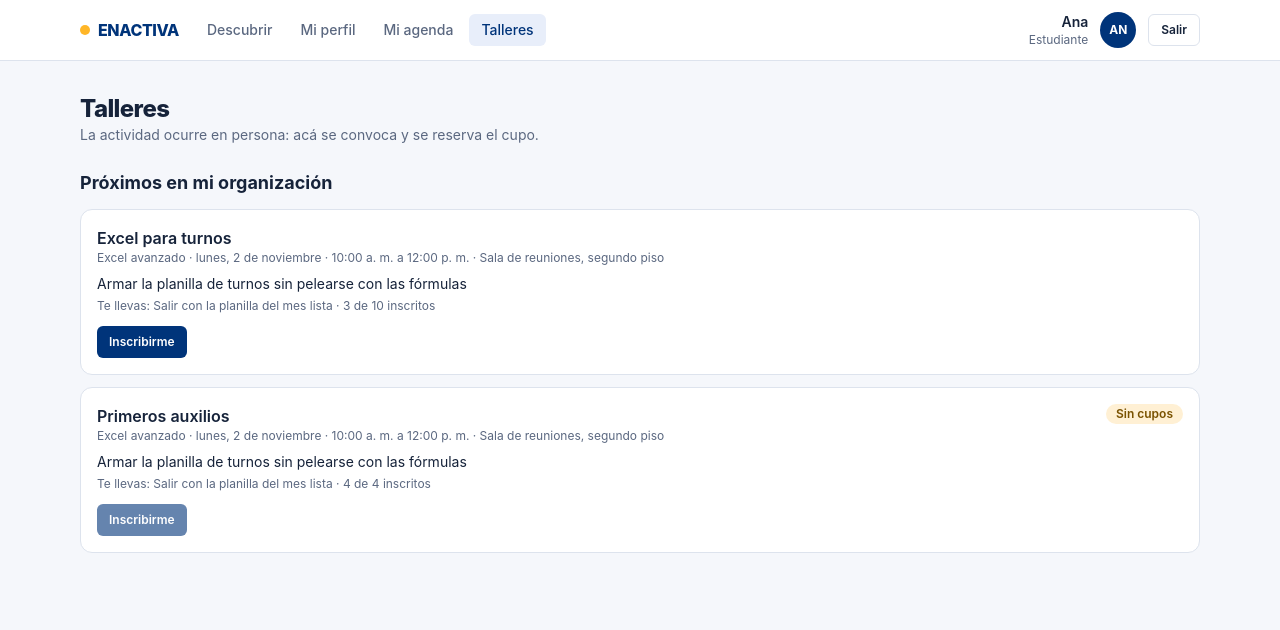
Test case: Talleres › muestra el mensaje de la API cuando el taller se llenó entremedio
What coordinates should you click on to do the following:
click the button "Inscribirme" below "Excel para turnos"
I would click on:
 (142, 342)
Its box is [97,326,187,358].
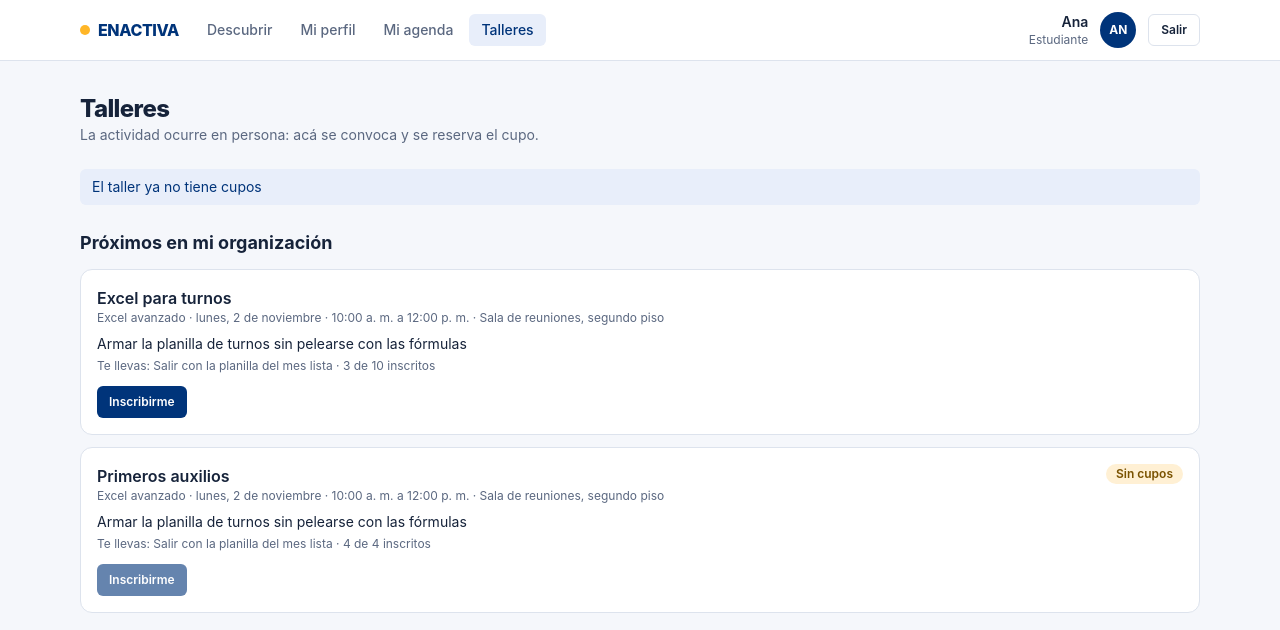
Check: the message reads "El taller ya no tiene cupos", box [92,178,262,195]
